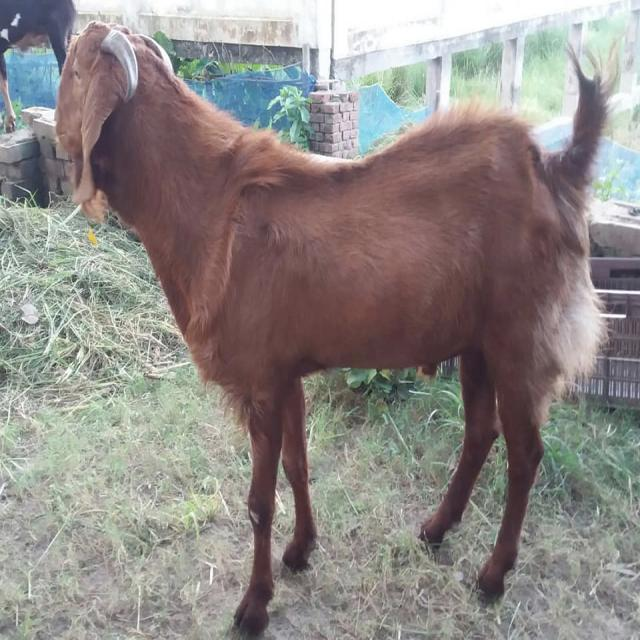Goat: (54, 19, 621, 638), (1, 0, 78, 134)
